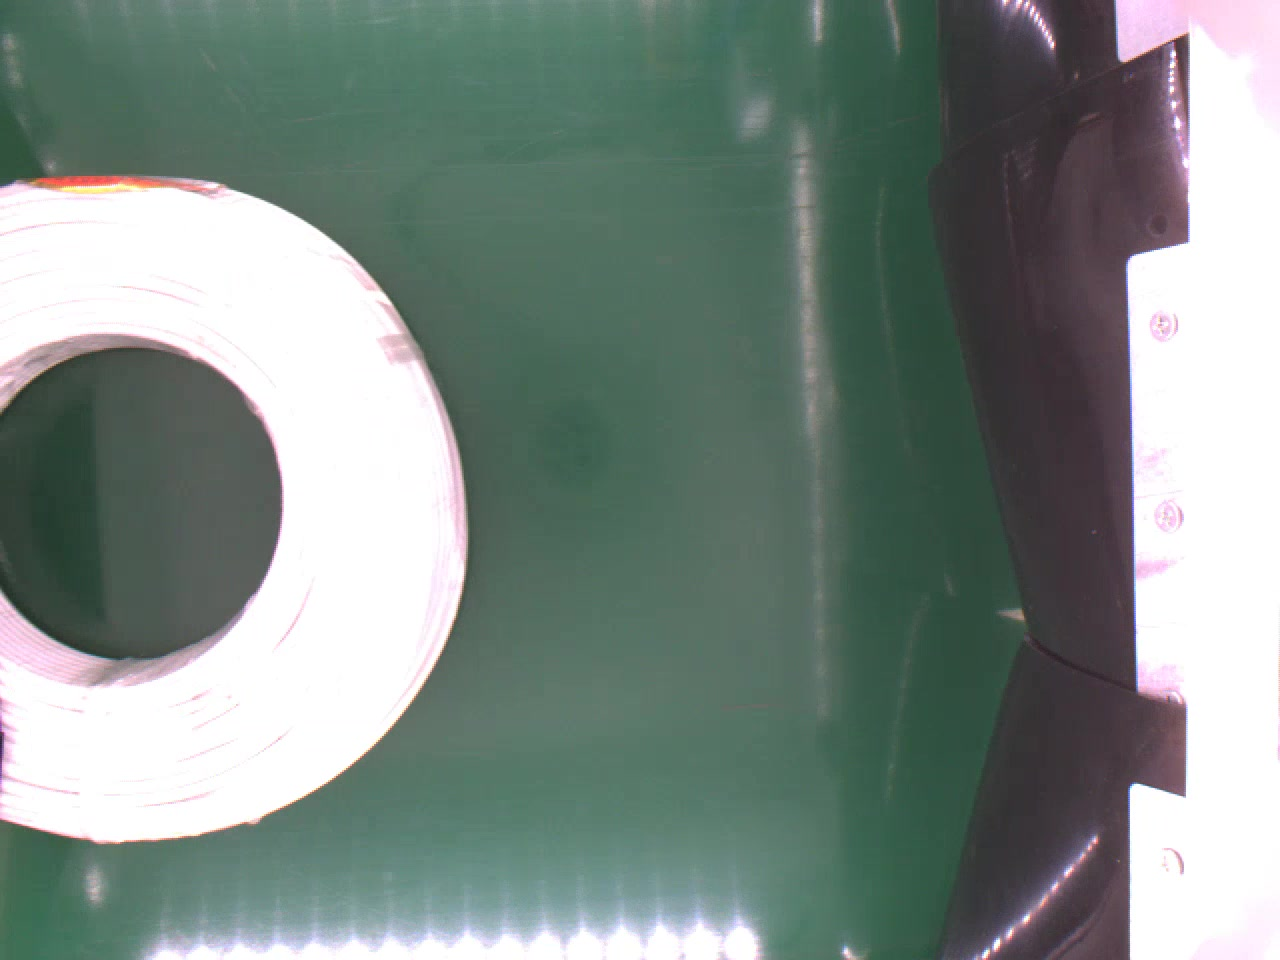white: (0, 168, 469, 847)
